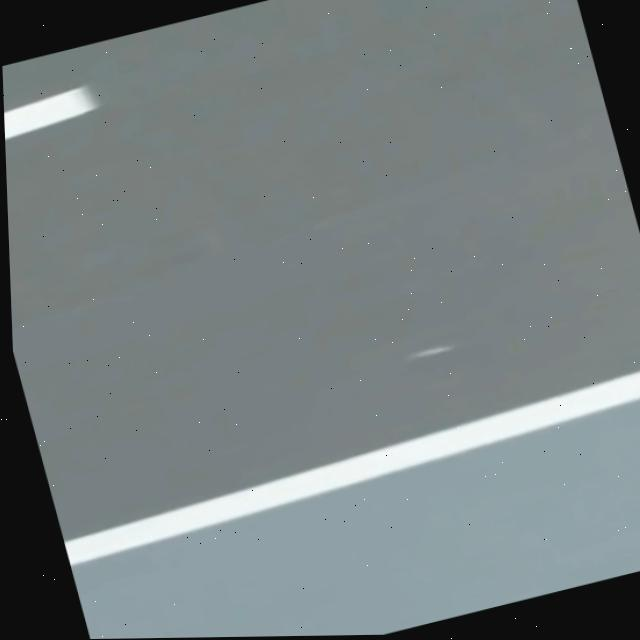center: (4, 86, 96, 140)
left: (63, 371, 640, 566)
